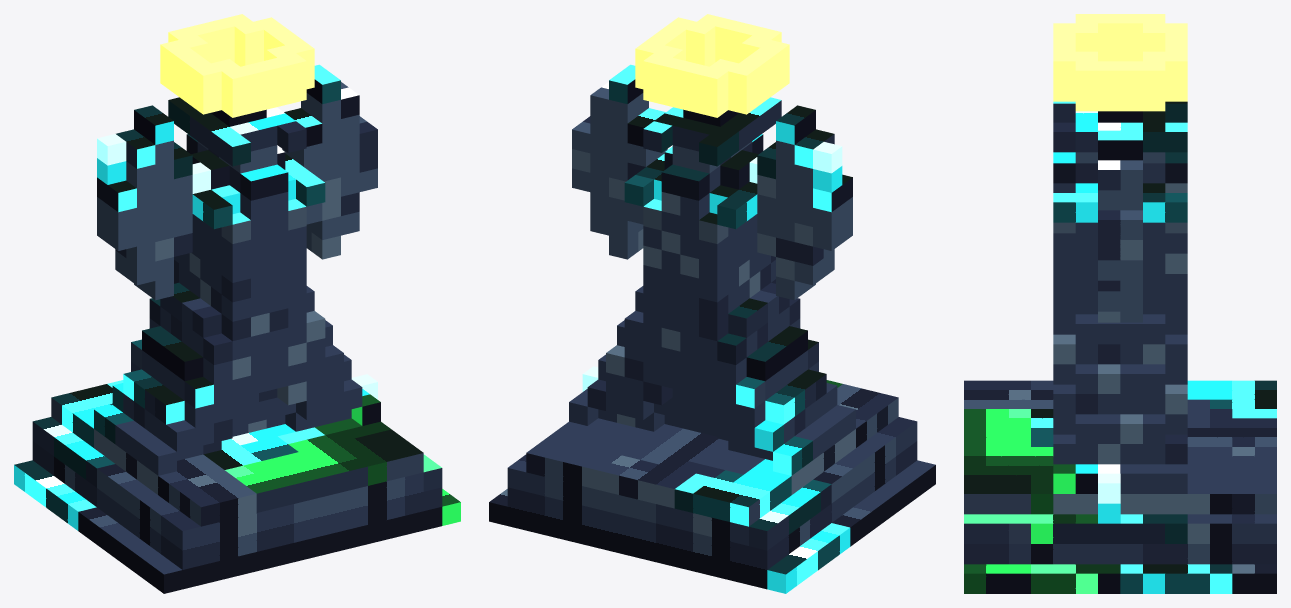
Rendered from angel_statue.glb.
The picture shows the model from 3 angles, left to right: view 1: azimuth 30°, elevation 25°; view 2: azimuth 150°, elevation 25°; view 3: azimuth 270°, elevation 25°; orthographic projection. The views are drawn at different scales.
Visible parts, largest first — view 1: statue, halo; view 2: statue, halo; view 3: statue, halo.
Part boxes in pixels (<box>): statue: <box>14,64,460,593</box>; halo: <box>160,14,314,117</box>; statue: <box>489,64,935,593</box>; halo: <box>635,14,789,117</box>; statue: <box>964,101,1276,593</box>; halo: <box>1053,14,1187,111</box>.
Bounding box in the file's own units: 1 × 1.47 × 0.875.
8 materials, 8 textured.
